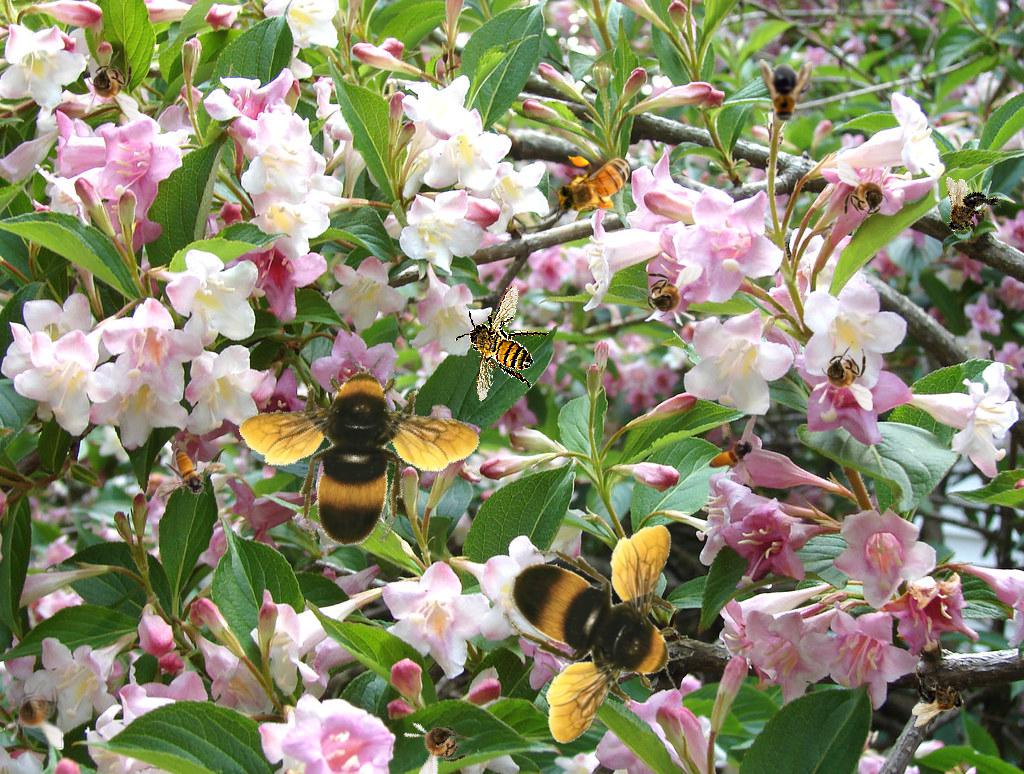Bee: (226, 315, 504, 578), (503, 525, 694, 745), (447, 279, 558, 405), (393, 701, 484, 774), (550, 152, 643, 220), (928, 173, 1007, 247), (3, 680, 64, 750), (837, 159, 898, 229), (812, 341, 873, 411), (633, 266, 703, 327), (78, 51, 139, 121), (707, 418, 757, 489), (155, 448, 226, 498), (760, 59, 812, 127), (911, 664, 966, 728)
